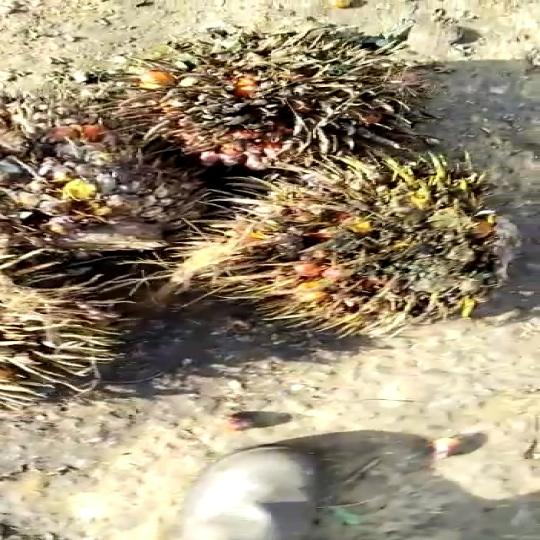terlalu masak: (159, 162, 495, 316), (98, 30, 431, 170), (0, 137, 205, 255)
